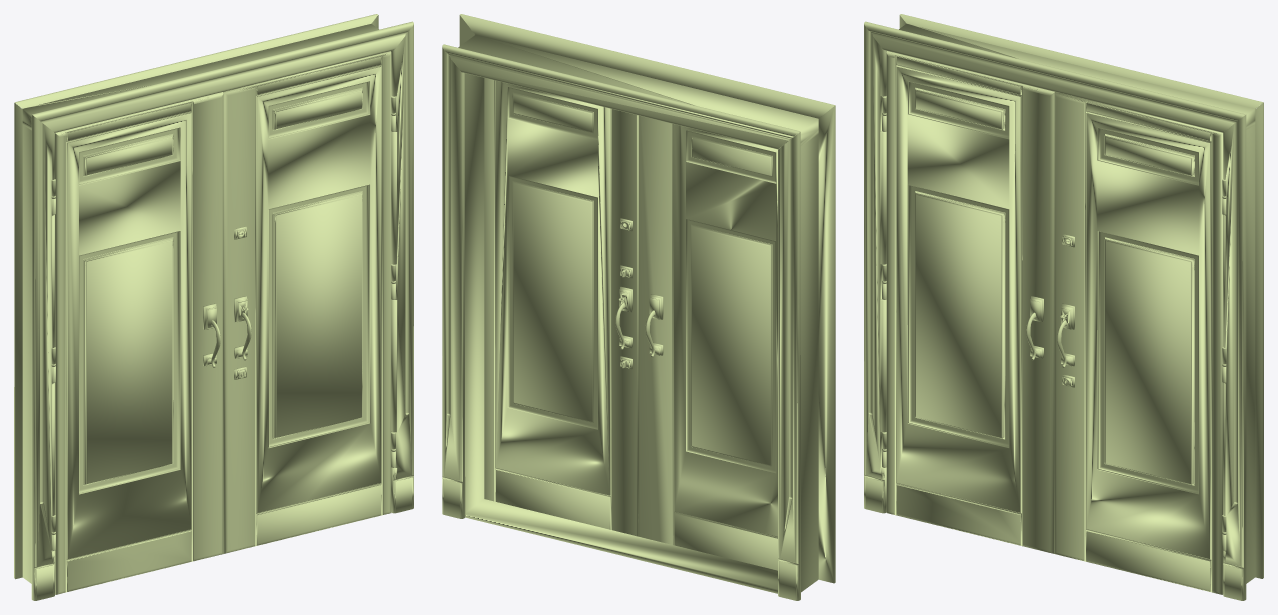
Rendered from Entrance_Door__vray.obj.
3 renders of one model, left to right at view 1: azimuth 30°, elevation 25°; view 2: azimuth 150°, elevation 25°; view 3: azimuth 330°, elevation 25°, orthographic.
Parts seen in each view (by area): view 1: Entrance_Door_003, Entrance_Door_002, Entrance_Door_004; view 2: Entrance_Door_004, Entrance_Door_003, Entrance_Door_002; view 3: Entrance_Door_003, Entrance_Door_002, Entrance_Door_004.
Part boxes in pixels (x1,y1,x2,y2): Entrance_Door_003: (223,51,395,553); Entrance_Door_002: (51,92,223,594); Entrance_Door_004: (14,14,413,600); Entrance_Door_004: (442,14,835,600); Entrance_Door_003: (484,78,638,536); Entrance_Door_002: (638,115,777,570); Entrance_Door_003: (1054,92,1226,594); Entrance_Door_002: (882,51,1054,553); Entrance_Door_004: (864,14,1263,600).
Bounding box in the file's own units: 175 × 213 × 32.93.
